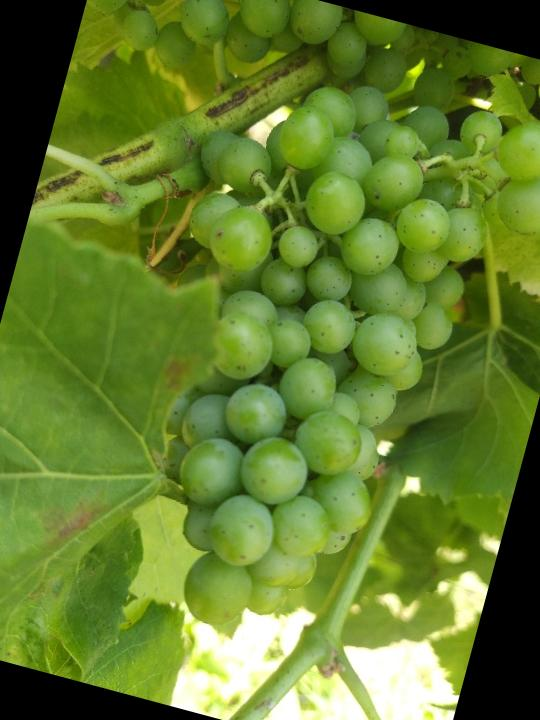grape: (75, 37, 540, 688)
